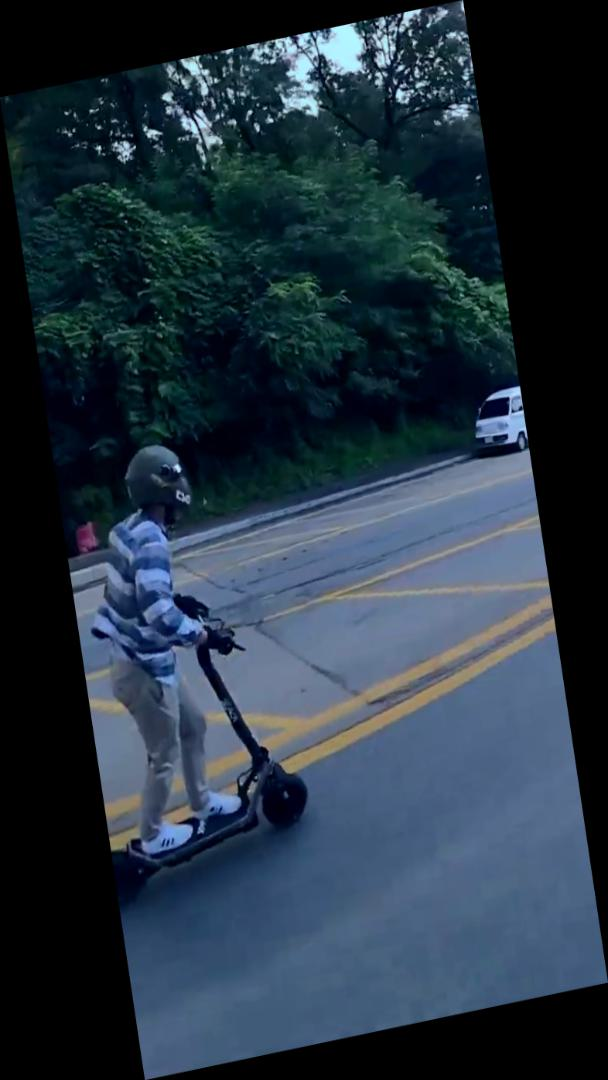helmet: (55, 424, 321, 913)
